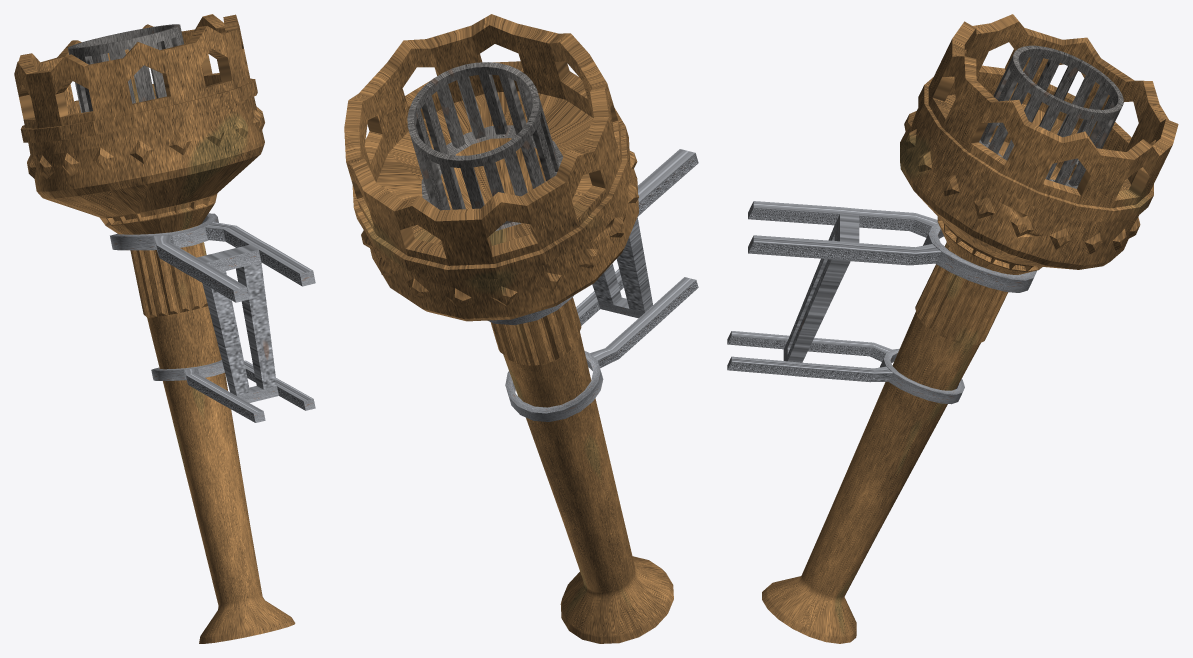
File: fire_torch.obj
The picture shows the model from 3 angles, left to right: view 1: azimuth 30°, elevation 25°; view 2: azimuth 150°, elevation 25°; view 3: azimuth 270°, elevation 25°; orthographic projection. The views are drawn at different scales.
Parts seen in each view (by area): view 1: fire_torch, Tube02; view 2: fire_torch, Tube02; view 3: fire_torch, Tube02.
Part boxes in pixels (left/top/right/bottom): fire_torch: left=14, top=14, right=295, bottom=643; Tube02: left=110, top=213, right=315, bottom=422; fire_torch: left=344, top=14, right=673, bottom=643; Tube02: left=488, top=149, right=698, bottom=421; fire_torch: left=762, top=14, right=1178, bottom=643; Tube02: left=727, top=201, right=1036, bottom=404.
Bounding box in the file's own units: 39.03 × 99.62 × 68.52.
Materials: 3 (3 with a texture image).
